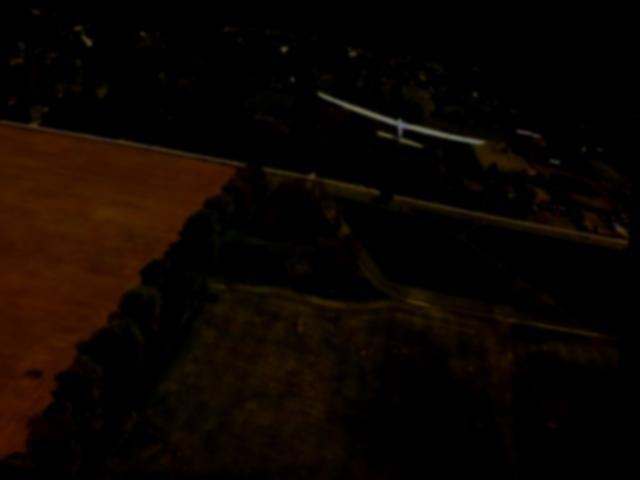uav: (303, 71, 498, 161)
